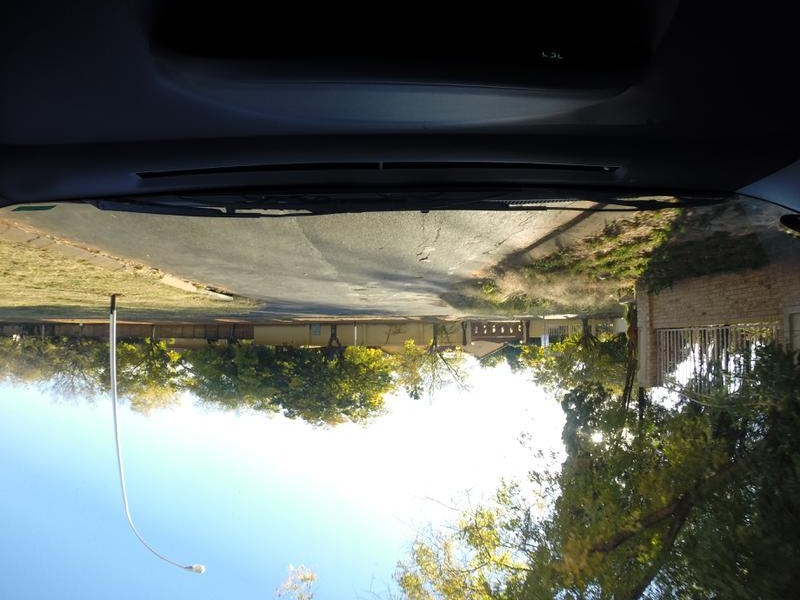pothole: (480, 248, 494, 256), (401, 276, 422, 281), (345, 286, 364, 291), (495, 237, 505, 244), (419, 256, 429, 261), (359, 295, 365, 303)
